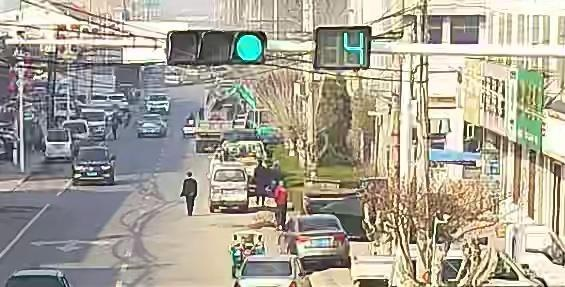green: (234, 31, 263, 62)
greentime: (326, 29, 370, 71)
